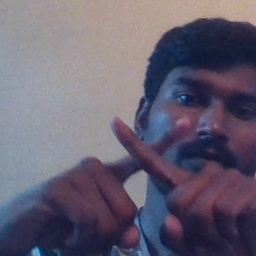X: (77, 108, 230, 243)
